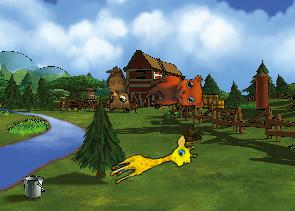bear: (143, 67, 209, 121)
giraffe: (106, 131, 200, 195)
owl: (93, 64, 137, 118)
